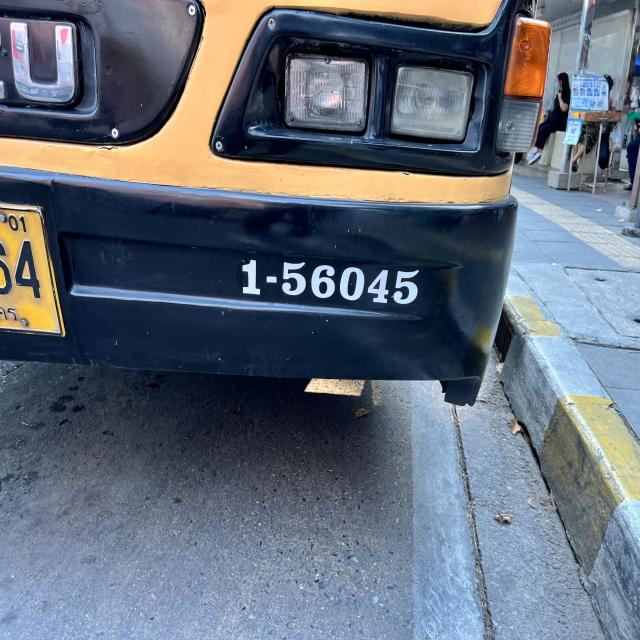BMTA-bus: (0, 0, 555, 415)
